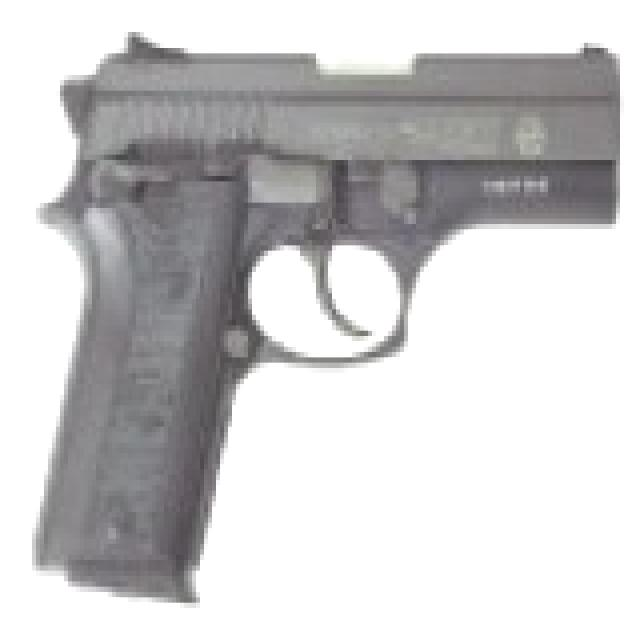pistol: (36, 27, 624, 592)
